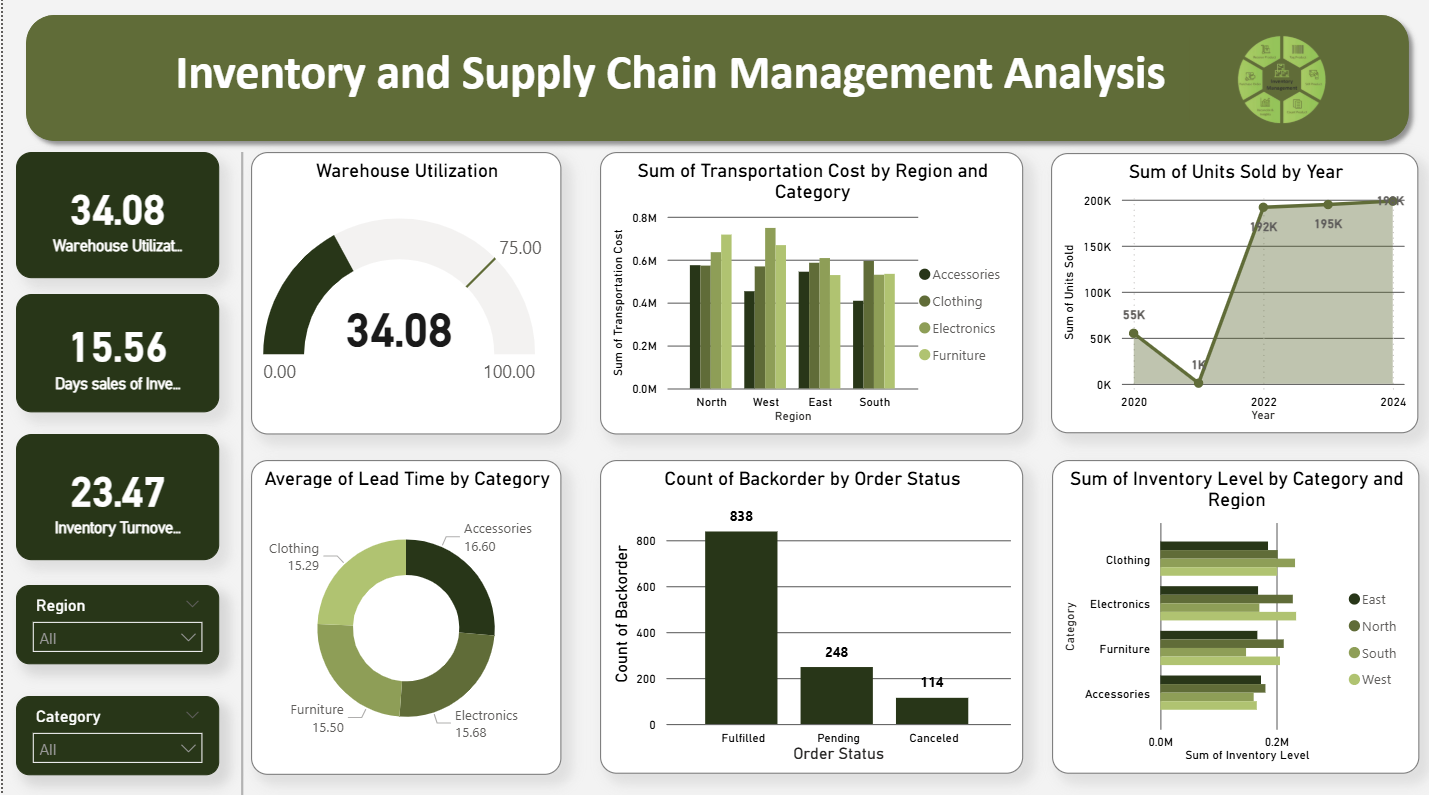

This screenshot's page, from the dashboard's own definition file:
{"tool":"powerbi","page":{"name":"Page 1","canvas":[1280,720],"ordinal":0},"visuals":[{"type":"shape","box":[11.8,10.3,1256.3,130.8],"z":0},{"type":"textbox","box":[133.7,38.2,928.7,74.9],"z":1000},{"type":"image","box":[1049.1,25,191,102.9],"z":2000},{"type":"shape","box":[207.2,141.1,14.7,578.9],"z":3000},{"type":"card","fields":{"Values":["Inventory and Supply Chain Dataset.Warehouse Utilization"]},"box":[11.8,141.1,182.2,113.1],"z":4000},{"type":"card","fields":{"Values":["Inventory and Supply Chain Dataset.Days sales of Inventory"]},"box":[11.8,268.9,182.2,105.8],"z":5000},{"type":"card","fields":{"Values":["Inventory and Supply Chain Dataset.Inventory Turnover Ratio"]},"box":[11.8,393.8,182.2,113.1],"z":6000},{"type":"slicer","fields":{"Values":["Inventory and Supply Chain Dataset.Region"]},"box":[11.8,529,182.2,70.5],"z":7000},{"type":"slicer","fields":{"Values":["Inventory and Supply Chain Dataset.Category"]},"box":[11.8,628.9,182.2,70.5],"z":8000},{"type":"gauge","fields":{"Y":["Inventory and Supply Chain Dataset.Warehouse Utilization"]},"box":[221.9,141.1,277.7,252.7],"z":9000},{"type":"clusteredColumnChart","fields":{"Y":["Sum(Inventory and Supply Chain Dataset.Transportation Cost)"],"Category":["Inventory and Supply Chain Dataset.Region"],"Series":["Inventory and Supply Chain Dataset.Category"]},"box":[534.9,141.1,379.1,252.7],"z":10000},{"type":"lineChart","fields":{"Y":["Sum(Inventory and Supply Chain Dataset.Units Sold)"],"Category":["Inventory and Supply Chain Dataset.Date.Variation.Date Hierarchy.Year"]},"box":[938.9,142.5,329.1,251.3],"z":11000},{"type":"donutChart","fields":{"Y":["Sum(Inventory and Supply Chain Dataset.Lead Time)"],"Category":["Inventory and Supply Chain Dataset.Category"]},"box":[221.9,417.3,277.7,282.1],"z":12000},{"type":"columnChart","fields":{"Y":["CountNonNull(Inventory and Supply Chain Dataset.Backorder)"],"Category":["Inventory and Supply Chain Dataset.Order Status"]},"box":[534.3,417.1,378.6,281.4],"z":13000},{"type":"clusteredBarChart","fields":{"Y":["Sum(Inventory and Supply Chain Dataset.Inventory Level)"],"Category":["Inventory and Supply Chain Dataset.Category"],"Series":["Inventory and Supply Chain Dataset.Region"]},"box":[939,417,329,281],"z":14000}]}

Visuals, with their boxes in screenshot pixels (x1, y1, x2, y2), scaled from the page's 1280x720 canvas onto the 1429x795 screenshot:
shape: <region>13, 11, 1416, 156</region>
textbox: <region>149, 42, 1186, 125</region>
image: <region>1171, 28, 1384, 141</region>
shape: <region>231, 156, 248, 794</region>
card - Inventory and Supply Chain Dataset.Warehouse Utilization: <region>13, 156, 217, 281</region>
card - Inventory and Supply Chain Dataset.Days sales of Inventory: <region>13, 297, 217, 414</region>
card - Inventory and Supply Chain Dataset.Inventory Turnover Ratio: <region>13, 435, 217, 560</region>
slicer - Inventory and Supply Chain Dataset.Region: <region>13, 584, 217, 662</region>
slicer - Inventory and Supply Chain Dataset.Category: <region>13, 694, 217, 772</region>
gauge - Inventory and Supply Chain Dataset.Warehouse Utilization: <region>248, 156, 558, 435</region>
clusteredColumnChart - Sum(Inventory and Supply Chain Dataset.Transportation Cost) x Inventory and Supply Chain Dataset.Region: <region>597, 156, 1020, 435</region>
lineChart - Sum(Inventory and Supply Chain Dataset.Units Sold) x Inventory and Supply Chain Dataset.Date.Variation.Date Hierarchy.Year: <region>1048, 157, 1416, 435</region>
donutChart - Sum(Inventory and Supply Chain Dataset.Lead Time) x Inventory and Supply Chain Dataset.Category: <region>248, 461, 558, 772</region>
columnChart - CountNonNull(Inventory and Supply Chain Dataset.Backorder) x Inventory and Supply Chain Dataset.Order Status: <region>596, 461, 1019, 771</region>
clusteredBarChart - Sum(Inventory and Supply Chain Dataset.Inventory Level) x Inventory and Supply Chain Dataset.Category: <region>1048, 460, 1416, 771</region>
